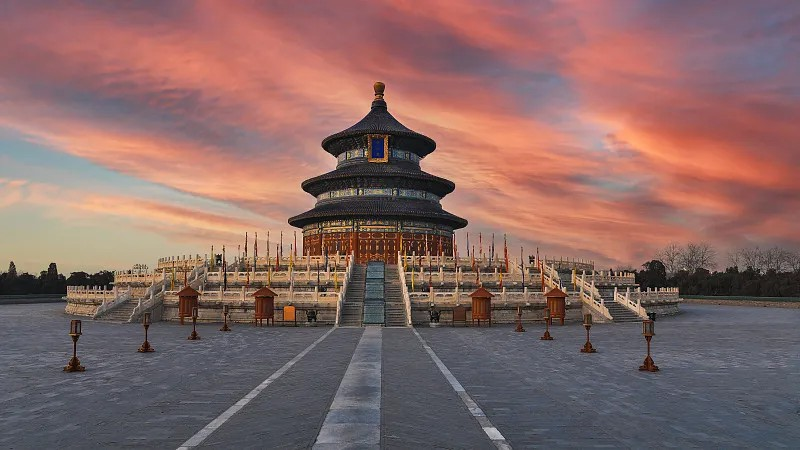Heaven: (287, 81, 469, 261)
